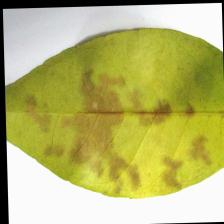black spot: (37, 71, 200, 168)
